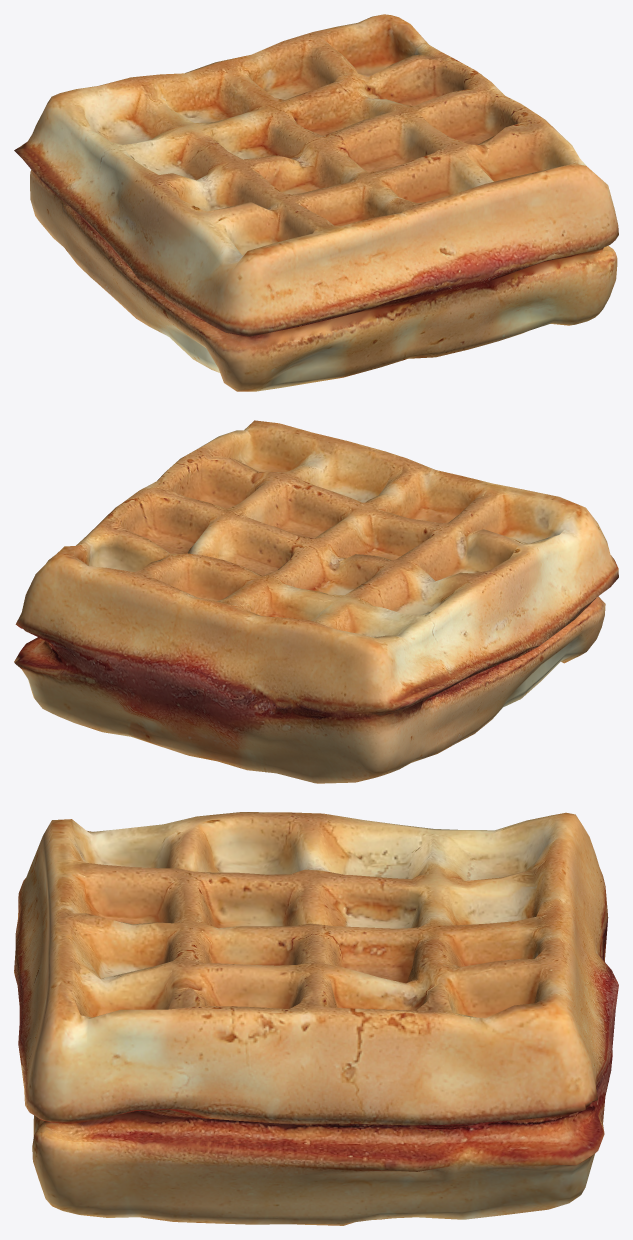
The model's file is pancakes2.glb.
3 renders of one model, top to bottom at view 1: azimuth 30°, elevation 25°; view 2: azimuth 150°, elevation 25°; view 3: azimuth 270°, elevation 25°, orthographic. The views are drawn at different scales.
Parts seen in each view (by area): view 1: waffle_lp; view 2: waffle_lp; view 3: waffle_lp.
Part boxes in pixels (x1,y1,x2,y2): waffle_lp: (14,14,618,391); waffle_lp: (14,420,618,783); waffle_lp: (14,812,618,1225).
Bounding box in the file's own units: 0.0879 × 0.0357 × 0.089.
Materials: 1 (1 with a texture image).
